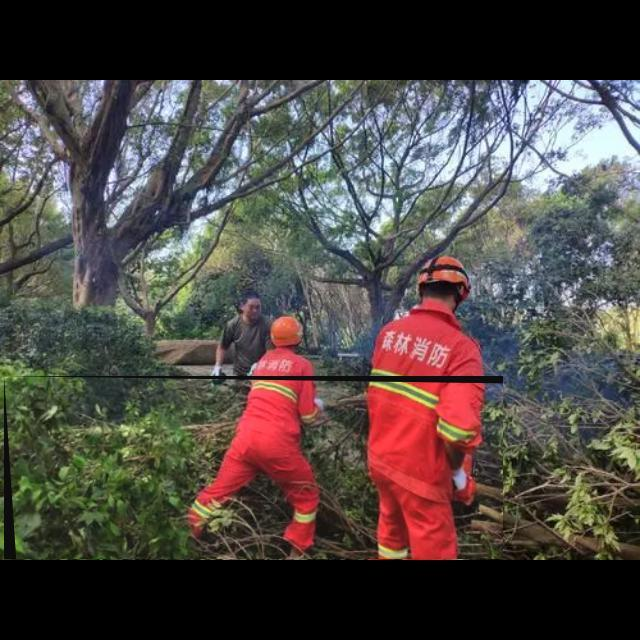fallen_tree: (4, 376, 504, 560)
